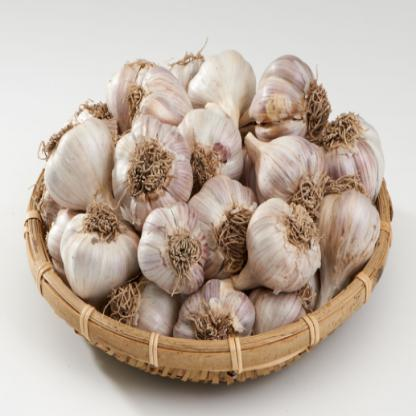garlic: (239, 194, 327, 290), (113, 116, 190, 215), (58, 204, 137, 300), (34, 119, 114, 204), (316, 193, 384, 293), (184, 42, 256, 121), (192, 179, 258, 264), (250, 130, 322, 204), (265, 42, 318, 141), (137, 209, 207, 282), (325, 110, 383, 192), (109, 62, 191, 120)
